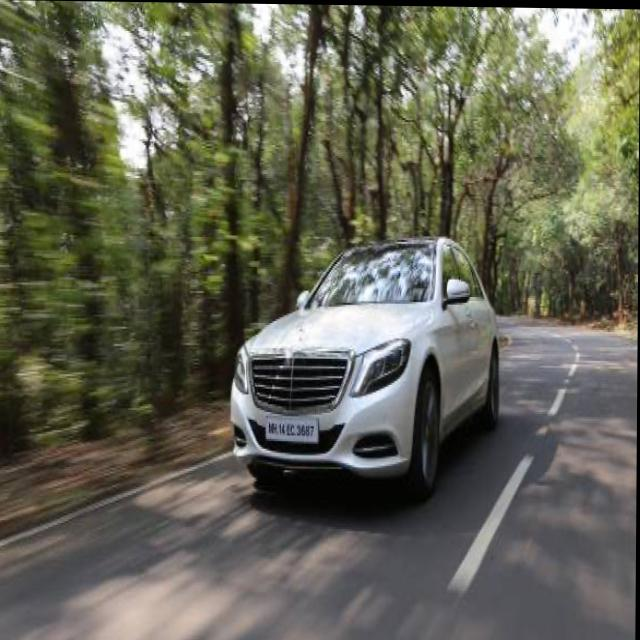licence: (260, 401, 323, 451)
